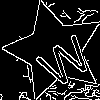W: (29, 26, 96, 90)
